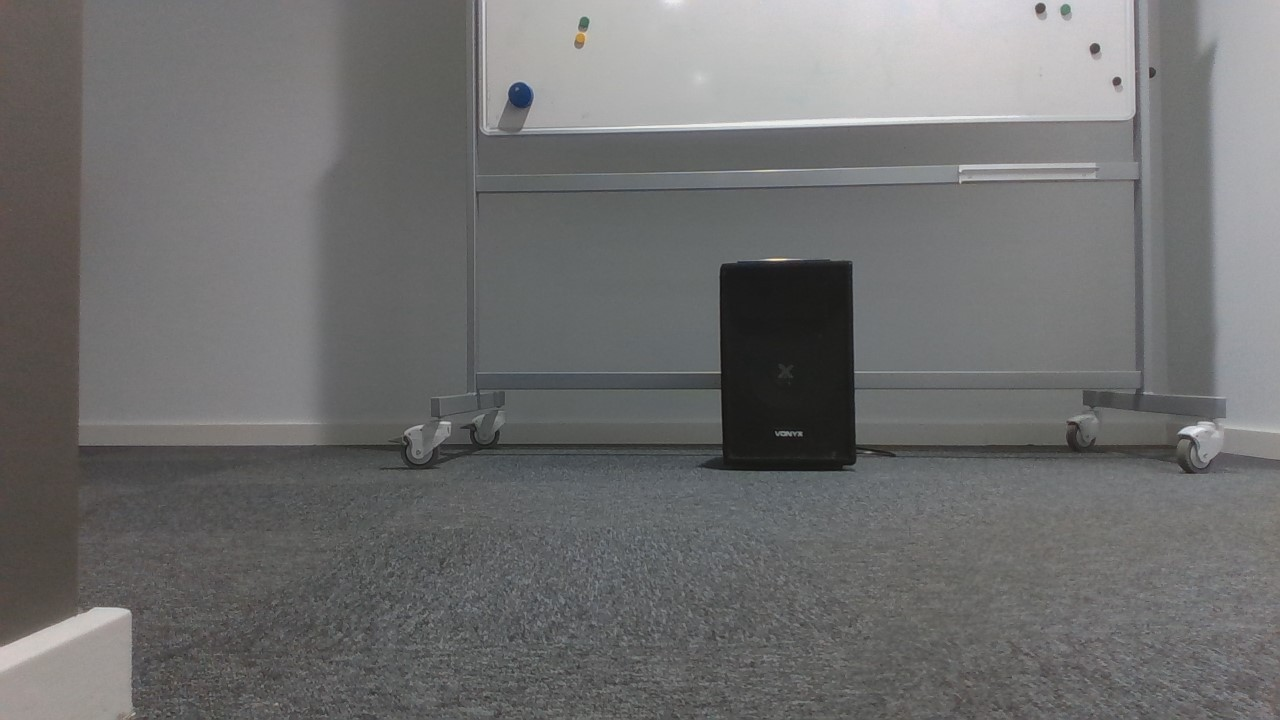alfa: (504, 79, 535, 112)
